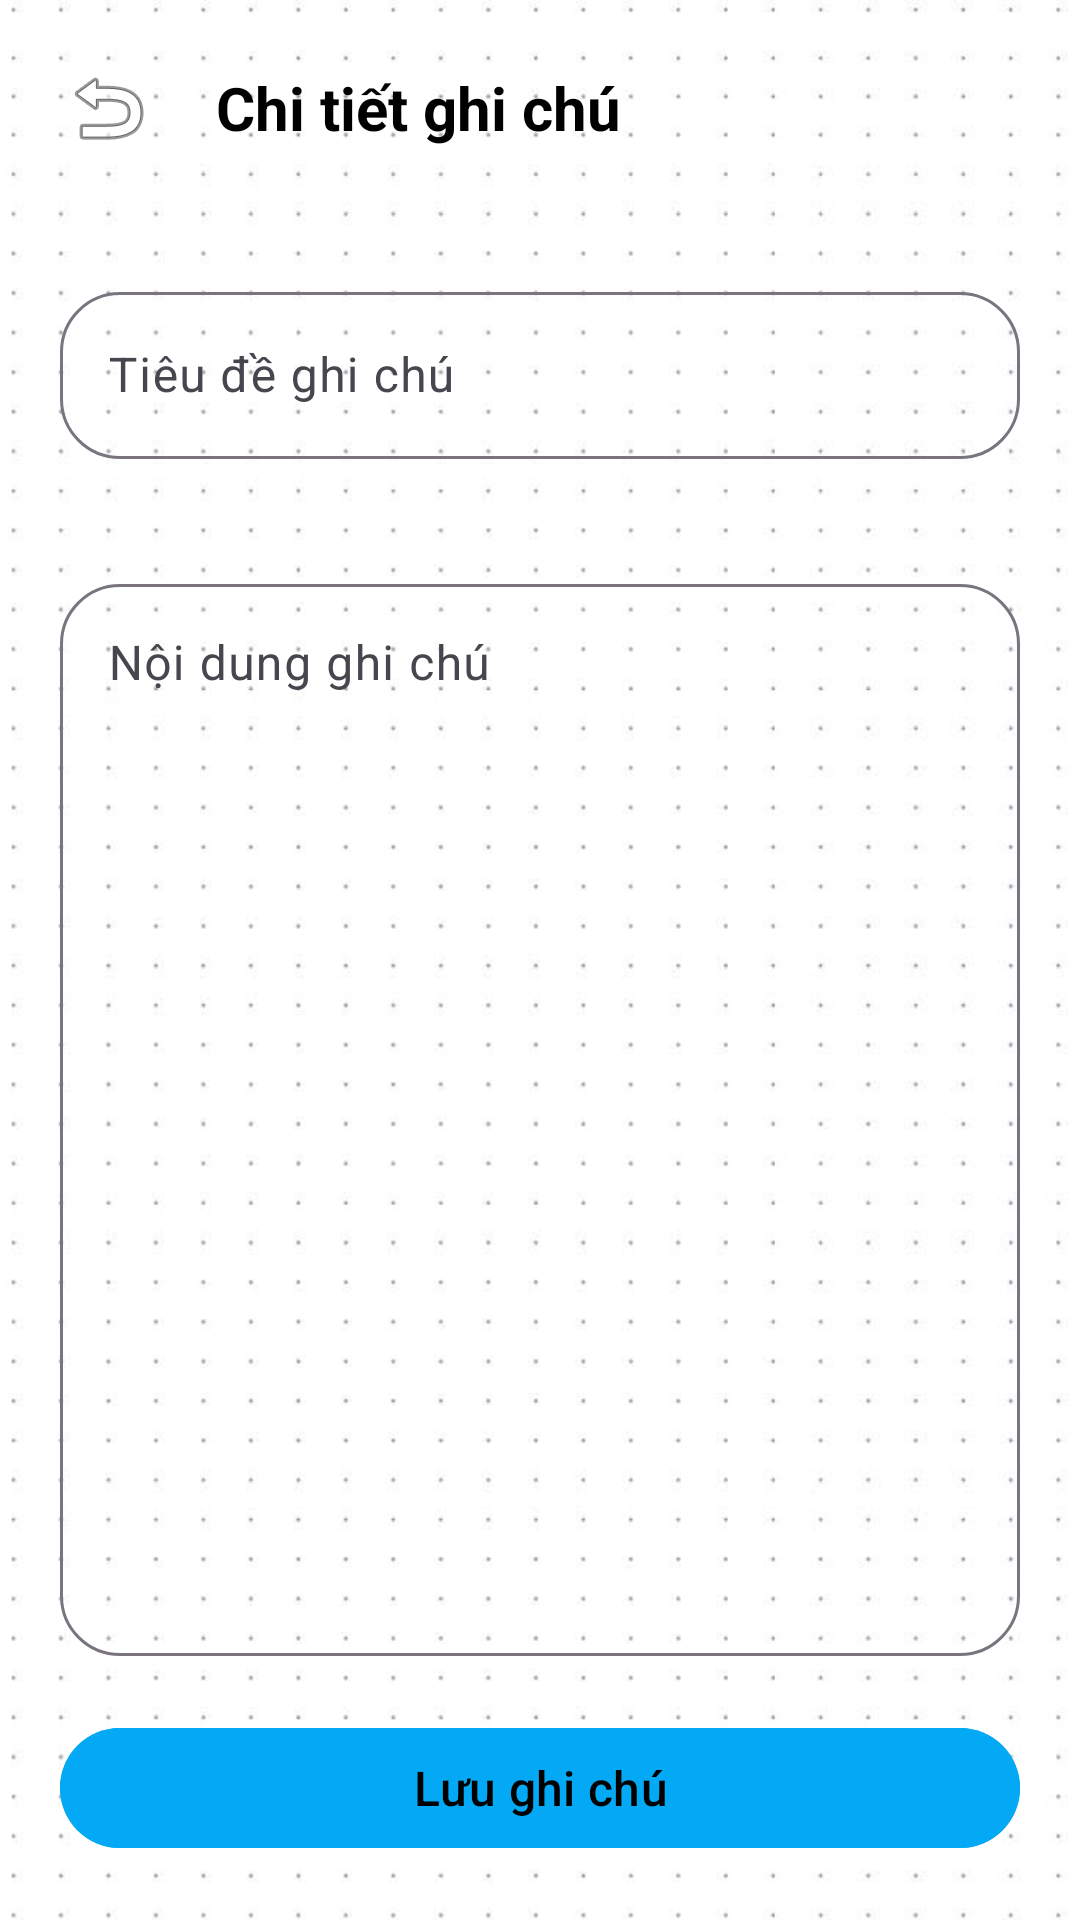

Icon click points for this 1080px x 1920px phone screenshot, format point (x, y):
Quay lại: point (109, 98)
